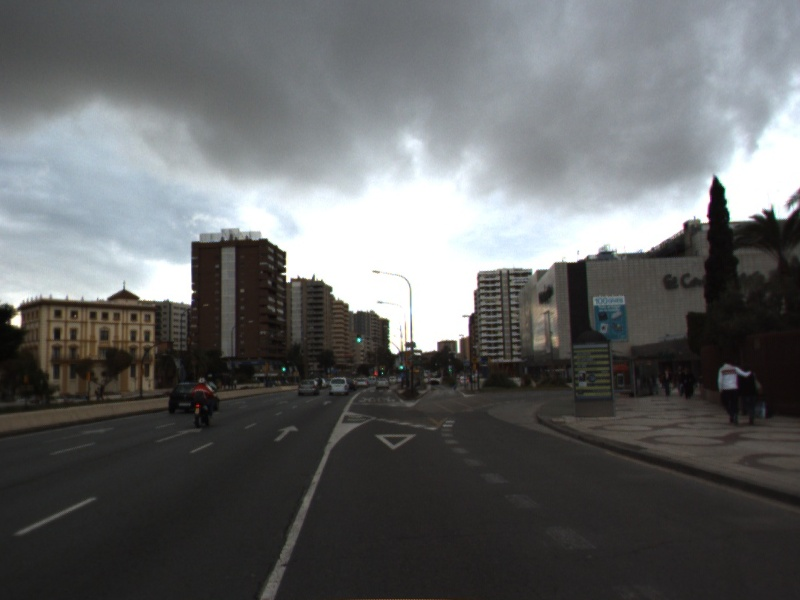STRAIGHT: (153, 426, 205, 445), (271, 423, 300, 443)
